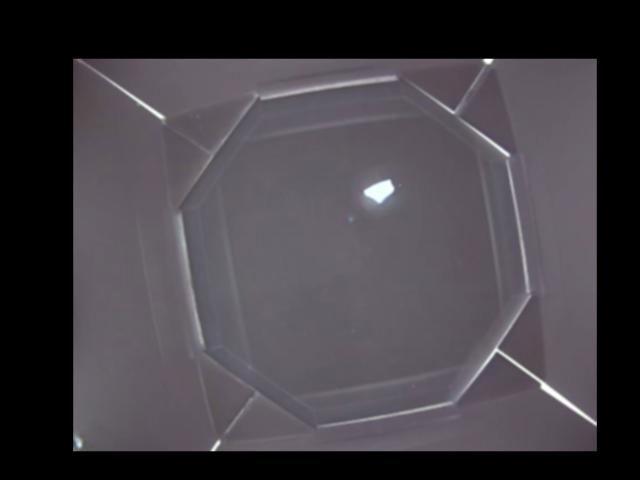China: (364, 178, 394, 205)
